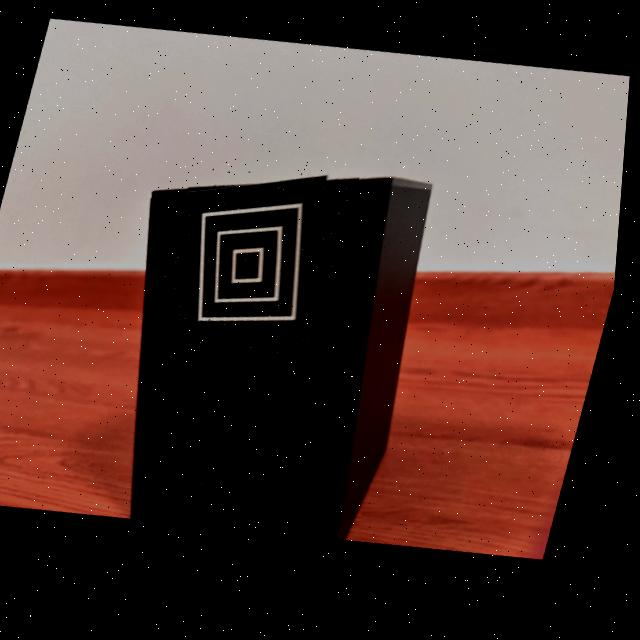BULLSEYE: (186, 183, 333, 352)
